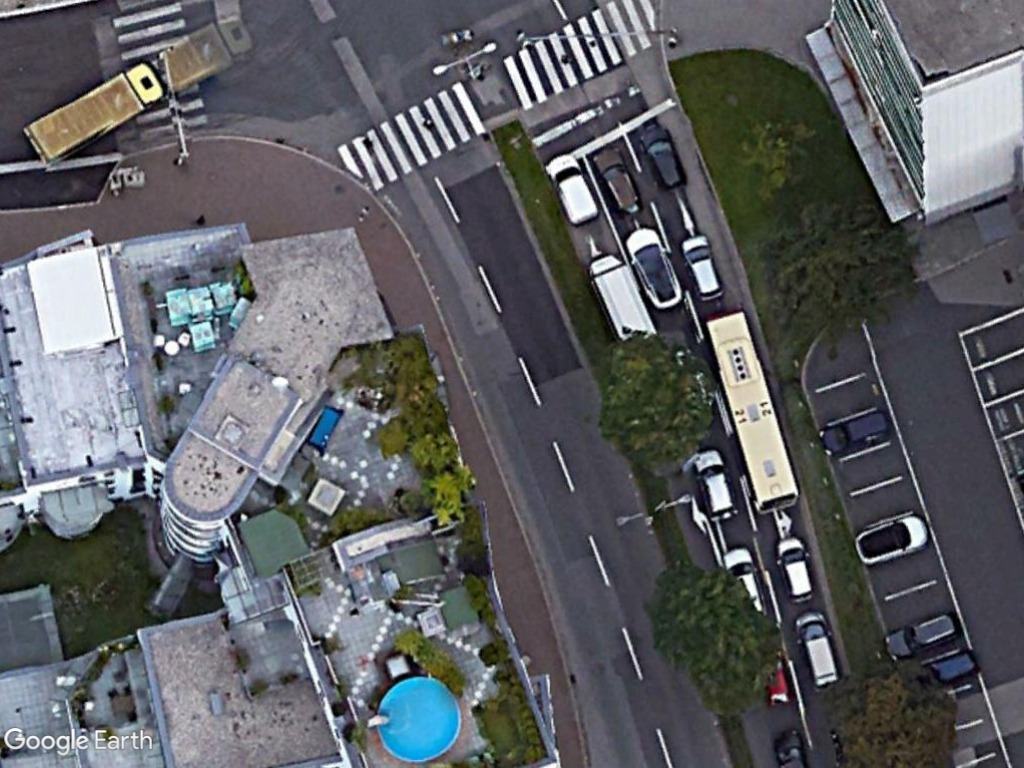bus: (699, 311, 802, 515)
car: (625, 226, 682, 313), (878, 609, 963, 665), (851, 510, 932, 566), (815, 405, 893, 459), (589, 145, 644, 218), (634, 120, 688, 194), (791, 605, 838, 686), (693, 444, 739, 525), (677, 229, 723, 306), (772, 533, 819, 604)
truck: (20, 57, 171, 169), (585, 252, 658, 345)
van: (542, 149, 600, 226)
